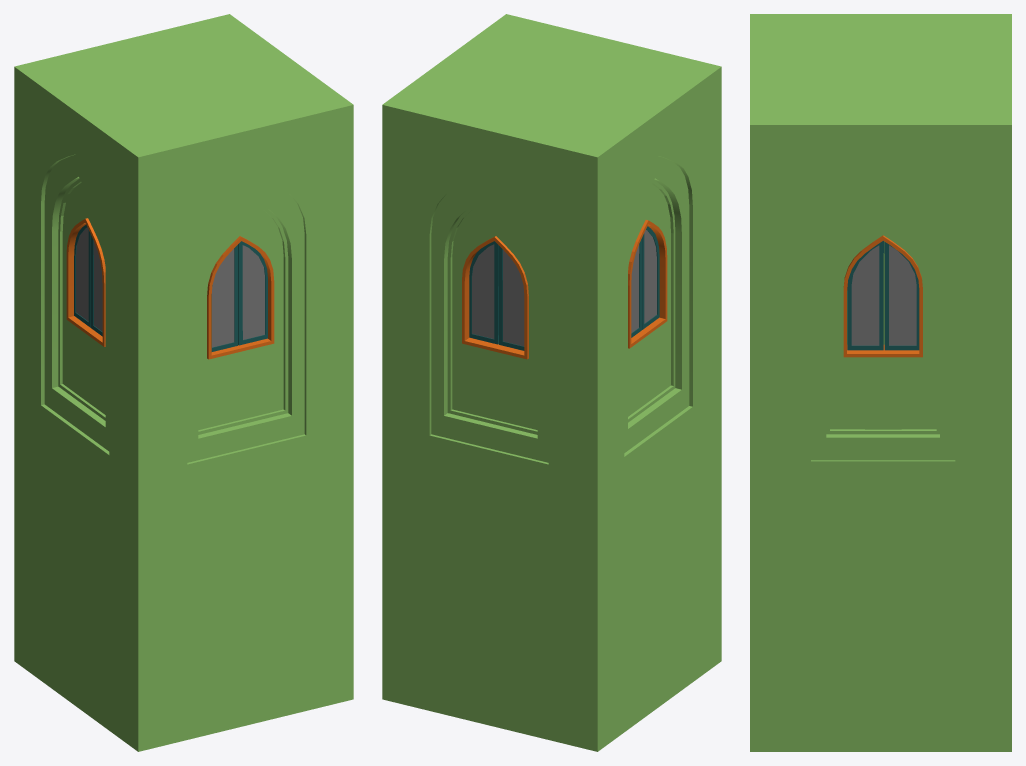
The model's file is building_1.fbx.
3 renders of one model, left to right at view 1: azimuth 30°, elevation 25°; view 2: azimuth 150°, elevation 25°; view 3: azimuth 270°, elevation 25°, orthographic. The views are drawn at different scales.
Visible parts, largest first — view 1: Box040, Line089, Line088, Line090, Line091; view 2: Box040, Line093, Line092, Line091, Line090; view 3: Box040, Line095, Line094.
Part boxes in pixels (x1,y1,x2,y2): Box040: (14,14,353,751); Line089: (238,241,267,345); Line088: (211,244,238,351); Line090: (74,224,90,327); Line091: (91,235,102,336); Box040: (382,14,721,751); Line093: (469,241,498,344); Line092: (498,245,524,350); Line091: (642,226,659,329); Line090: (631,238,641,337); Box040: (750,14,1011,751); Line095: (847,241,883,350); Line094: (884,241,919,350).
Bounding box in the file's own units: 452 × 451 × 1192.
